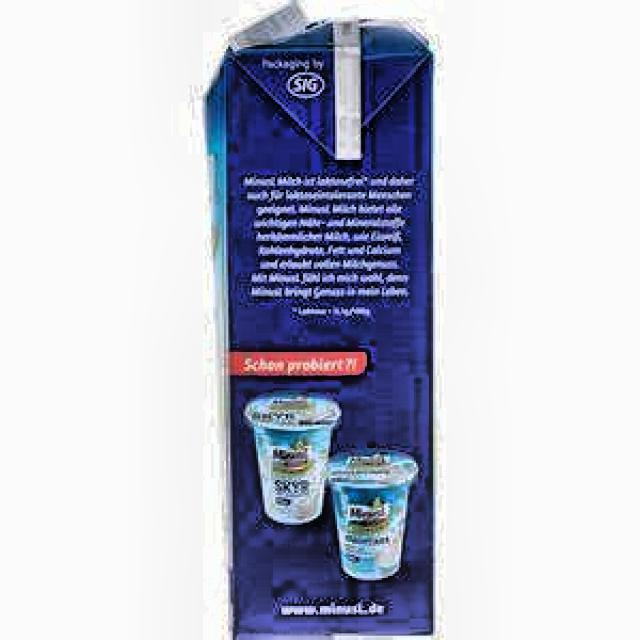cardboard: (202, 4, 436, 638)
